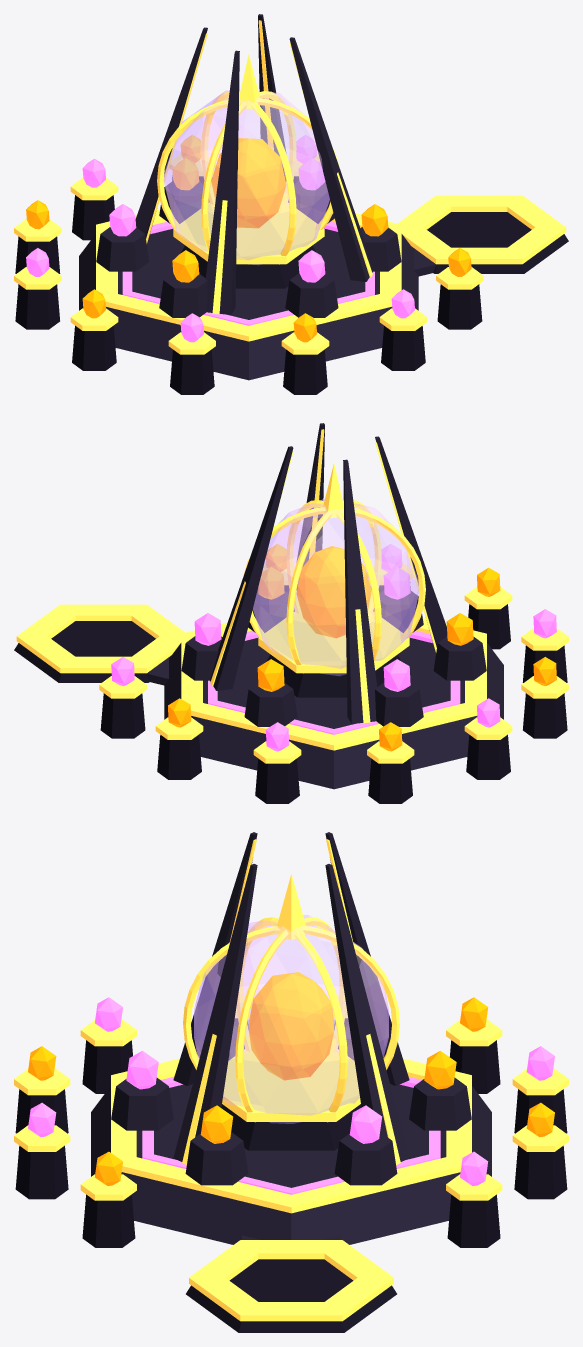
File: Welt2_Inkubator.fbx
3 renders of one model, top to bottom at view 1: azimuth 30°, elevation 25°; view 2: azimuth 150°, elevation 25°; view 3: azimuth 270°, elevation 25°, orthographic. The views are drawn at different scales.
Parts seen in each view (by area): view 1: Ink_L1_Kuppel, Ink_L1_Sockel, Ink_L1_BrutRand, Ink_L1_Kranz, Ink_L4_Klinge1, Ink_L1_WiegeGold, Ink_L1_Brutplatz, Ink_L4_Klinge2, Ink_L1_Ei, Ink_L4_Klinge0, Ink_L1_Bogen1, Ink_L1_Zelle1 (+43 smaller); view 2: Ink_L1_Kuppel, Ink_L1_Sockel, Ink_L1_BrutRand, Ink_L1_Kranz, Ink_L4_Klinge0, Ink_L1_WiegeGold, Ink_L1_Brutplatz, Ink_L1_Ei, Ink_L4_Klinge3, Ink_L4_Klinge1, Ink_L1_Bogen2, Ink_L1_Zelle2 (+43 smaller); view 3: Ink_L1_Sockel, Ink_L1_Kuppel, Ink_L1_BrutRand, Ink_L1_Kranz, Ink_L1_Ei, Ink_L1_Brutplatz, Ink_L1_WiegeGold, Ink_L4_Klinge2, Ink_L4_Klinge3, Ink_L1_Wiege, Ink_L4_Klinge1, Ink_L4_Klinge0 (+39 smaller).
Boxes of the visible parts, <box> form: Ink_L1_Kuppel: <box>163,90,329,264</box>; Ink_L1_Sockel: <box>79,228,418,380</box>; Ink_L1_BrutRand: <box>398,195,566,264</box>; Ink_L1_Kranz: <box>96,209,401,341</box>; Ink_L4_Klinge1: <box>205,50,239,314</box>; Ink_L1_WiegeGold: <box>173,202,324,264</box>; Ink_L1_Brutplatz: <box>427,212,568,273</box>; Ink_L4_Klinge2: <box>289,37,372,281</box>; Ink_L1_Ei: <box>211,138,286,228</box>; Ink_L4_Klinge0: <box>135,27,207,243</box>; Ink_L1_Bogen1: <box>157,98,339,230</box>; Ink_L1_Zelle1: <box>96,227,149,271</box>; Ink_L1_Kuppel: <box>253,499,419,675</box>; Ink_L1_Sockel: <box>164,637,503,789</box>; Ink_L1_BrutRand: <box>16,604,184,673</box>; Ink_L1_Kranz: <box>181,618,486,750</box>; Ink_L4_Klinge0: <box>343,459,377,723</box>; Ink_L1_WiegeGold: <box>258,611,409,673</box>; Ink_L1_Brutplatz: <box>14,621,155,682</box>; Ink_L1_Ei: <box>296,546,371,638</box>; Ink_L4_Klinge3: <box>210,446,293,690</box>; Ink_L4_Klinge1: <box>375,436,447,652</box>; Ink_L1_Bogen2: <box>243,507,425,639</box>; Ink_L1_Zelle2: <box>433,636,486,680</box>; Ink_L1_Sockel: <box>91,1084,491,1244</box>; Ink_L1_Kuppel: <box>194,914,388,1123</box>; Ink_L1_BrutRand: <box>189,1240,393,1321</box>; Ink_L1_Kranz: <box>111,1058,471,1213</box>; Ink_L1_Ei: <box>249,972,333,1080</box>; Ink_L1_Brutplatz: <box>186,1259,396,1332</box>; Ink_L1_WiegeGold: <box>222,1049,360,1121</box>; Ink_L4_Klinge2: <box>173,864,257,1161</box>; Ink_L4_Klinge3: <box>325,864,409,1161</box>; Ink_L1_Wiege: <box>221,1104,361,1150</box>; Ink_L4_Klinge1: <box>173,832,257,1085</box>; Ink_L4_Klinge0: <box>325,832,409,1085</box>.
Size of the model in its own units: 20.54 by 10.4 by 16.77.
